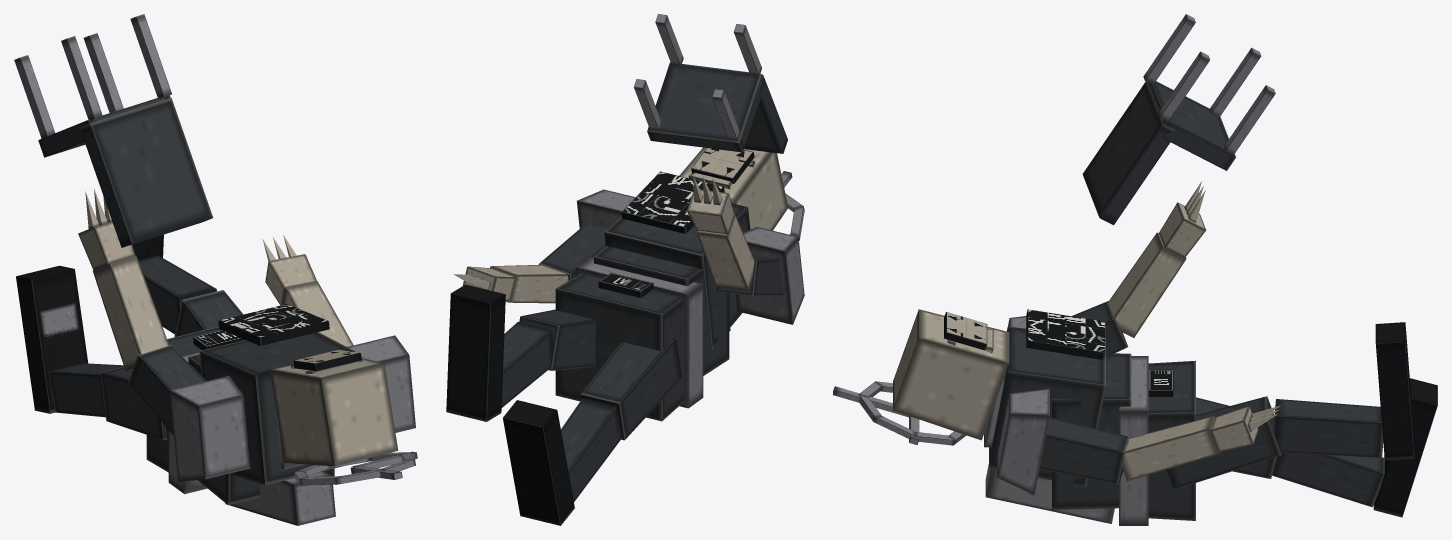
Rendered from posthum_move.obj.
The picture shows the model from 3 angles, left to right: view 1: azimuth 30°, elevation 25°; view 2: azimuth 150°, elevation 25°; view 3: azimuth 270°, elevation 25°; orthographic projection. The views are drawn at different scales.
Parts seen in each view (by area): view 1: posthum_move; view 2: posthum_move; view 3: posthum_move.
Boxes of the visible parts, x1=… form: posthum_move: x1=14, y1=14, x2=417, y2=525; posthum_move: x1=446, y1=14, x2=804, y2=525; posthum_move: x1=833, y1=14, x2=1437, y2=525.
Bounding box in the file's own units: 0.5238 × 0.8391 × 1.03.
Materials: 1 (1 with a texture image).
